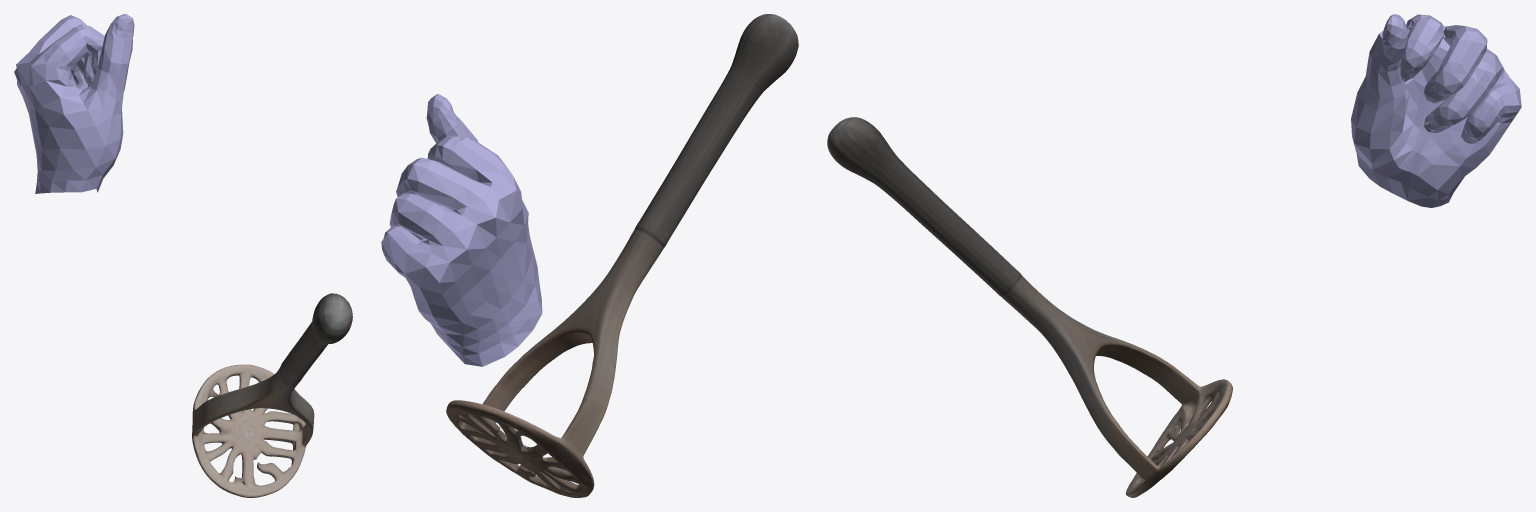
The model's file is frame_0029_source_000029_hand_object.glb.
The picture shows the model from 3 angles, left to right: view 1: azimuth 30°, elevation 25°; view 2: azimuth 150°, elevation 25°; view 3: azimuth 270°, elevation 25°; orthographic projection. The views are drawn at different scales.
Parts seen in each view (by area): view 1: world; view 2: world; view 3: world.
Part boxes in pixels (x1,y1,x2,y2): world: (14,14,352,497); world: (381,14,798,497); world: (827,14,1521,497).
Bounding box in the file's own units: 0.1142 × 0.2718 × 0.3691.
